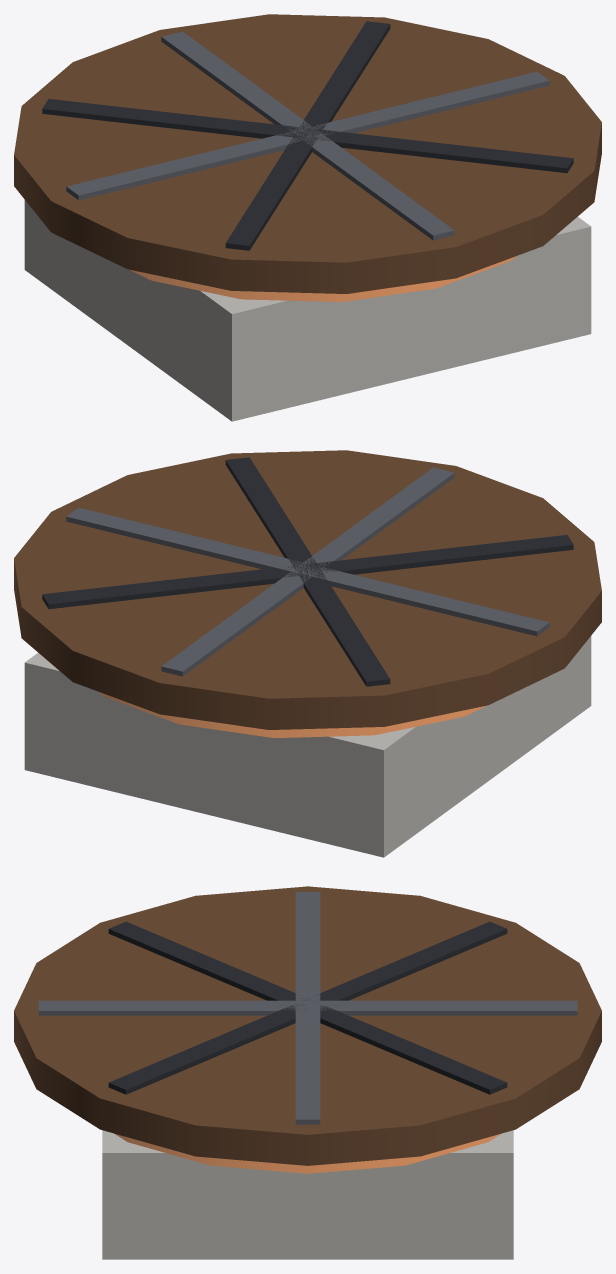
File: build_rotator.glb
3 renders of one model, top to bottom at view 1: azimuth 30°, elevation 25°; view 2: azimuth 150°, elevation 25°; view 3: azimuth 270°, elevation 25°, orthographic.
Visible parts, largest first — view 1: _MeshInstance3D_345, Baked, _MeshInstance3D_347, _MeshInstance3D_348, _MeshInstance3D_346, _MeshInstance3D_349; view 2: _MeshInstance3D_345, Baked, _MeshInstance3D_349, _MeshInstance3D_348, _MeshInstance3D_346, _MeshInstance3D_347; view 3: _MeshInstance3D_345, Baked, _MeshInstance3D_346, _MeshInstance3D_347, _MeshInstance3D_349, _MeshInstance3D_348.
Part boxes in pixels (left/top/right/bottom): _MeshInstance3D_345: left=14, top=14, right=601, bottom=293; Baked: left=24, top=200, right=591, bottom=421; _MeshInstance3D_347: left=42, top=99, right=573, bottom=173; _MeshInstance3D_348: left=66, top=71, right=549, bottom=200; _MeshInstance3D_346: left=161, top=31, right=454, bottom=240; _MeshInstance3D_349: left=225, top=21, right=390, bottom=250; _MeshInstance3D_345: left=14, top=450, right=601, bottom=729; Baked: left=24, top=636, right=591, bottom=857; _MeshInstance3D_349: left=42, top=535, right=573, bottom=609; _MeshInstance3D_348: left=66, top=507, right=549, bottom=636; _MeshInstance3D_346: left=161, top=467, right=454, bottom=676; _MeshInstance3D_347: left=225, top=457, right=390, bottom=686; _MeshInstance3D_345: left=14, top=886, right=601, bottom=1165; Baked: left=102, top=1130, right=513, bottom=1259; _MeshInstance3D_346: left=38, top=1000, right=577, bottom=1015; _MeshInstance3D_347: left=108, top=921, right=507, bottom=1094; _MeshInstance3D_349: left=108, top=921, right=507, bottom=1094; _MeshInstance3D_348: left=295, top=892, right=320, bottom=1124.
Bounding box in the file's own units: 1.2 × 0.376 × 1.2.
